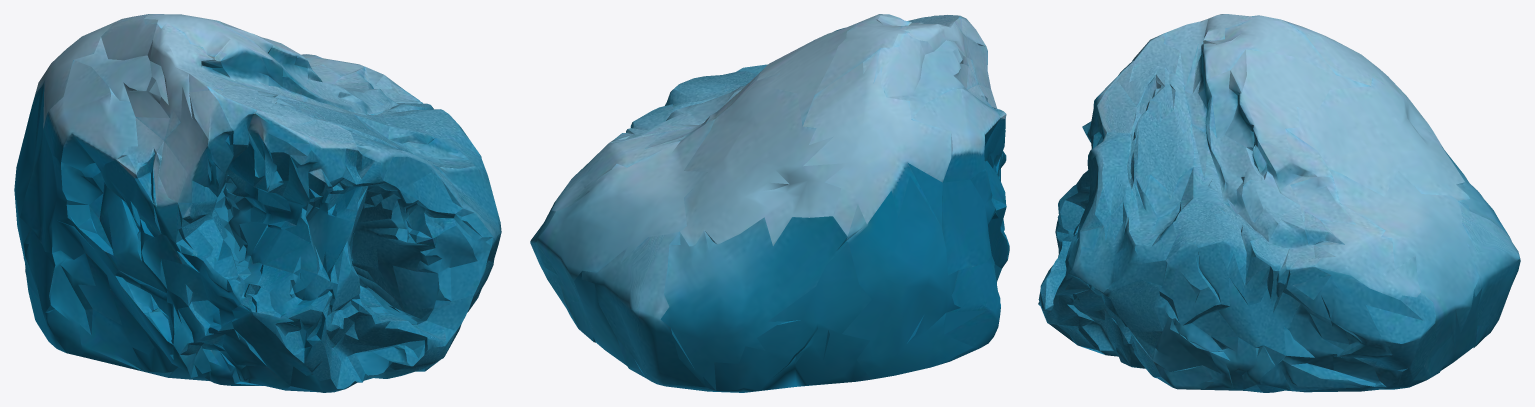
The model's file is p_ice.glb.
3 renders of one model, left to right at view 1: azimuth 30°, elevation 25°; view 2: azimuth 150°, elevation 25°; view 3: azimuth 270°, elevation 25°, orthographic. The views are drawn at different scales.
Parts seen in each view (by area): view 1: mesh_0; view 2: mesh_0; view 3: mesh_0.
Part boxes in pixels (x1,y1,x2,y2): mesh_0: [14, 14, 501, 392]; mesh_0: [530, 14, 1009, 392]; mesh_0: [1038, 14, 1520, 392].
Bounding box in the file's own units: 1.63 × 1.15 × 1.9.
Materials: 1 (1 with a texture image).
